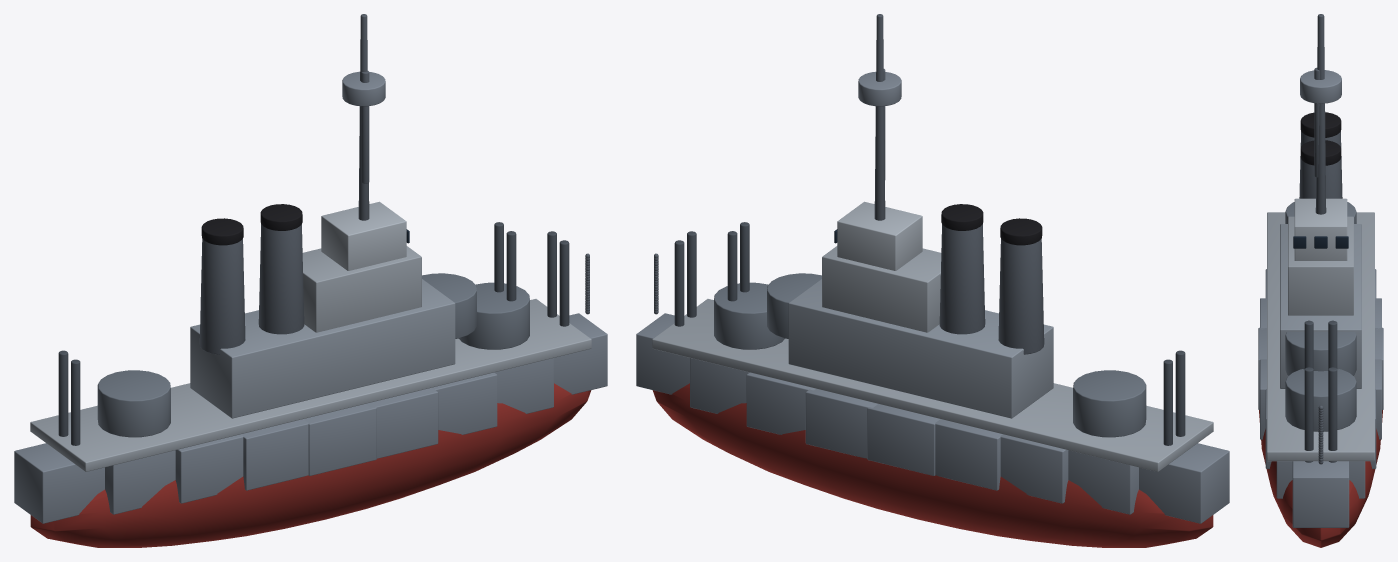
The model's file is navio_encouracado.glb.
3 views of the same model, side by side, from view 1: azimuth 30°, elevation 25°; view 2: azimuth 150°, elevation 25°; view 3: azimuth 270°, elevation 25° (orthographic). The views are drawn at different scales.
Visible parts, largest first — view 1: navio_encouracado; view 2: navio_encouracado; view 3: navio_encouracado.
Boxes of the visible parts, bbox=[...] form: navio_encouracado: bbox=[14, 14, 607, 547]; navio_encouracado: bbox=[636, 14, 1229, 547]; navio_encouracado: bbox=[1258, 14, 1383, 547].
Bounding box in the file's own units: 4.8 × 3.96 × 0.95.
